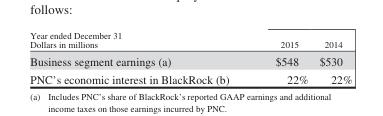table: (29, 29, 351, 85)
table column: (29, 29, 251, 85), (251, 29, 313, 85), (313, 29, 351, 85)
table column header: (29, 29, 351, 51)
table row: (29, 29, 351, 51), (29, 51, 351, 69), (29, 69, 351, 85)
